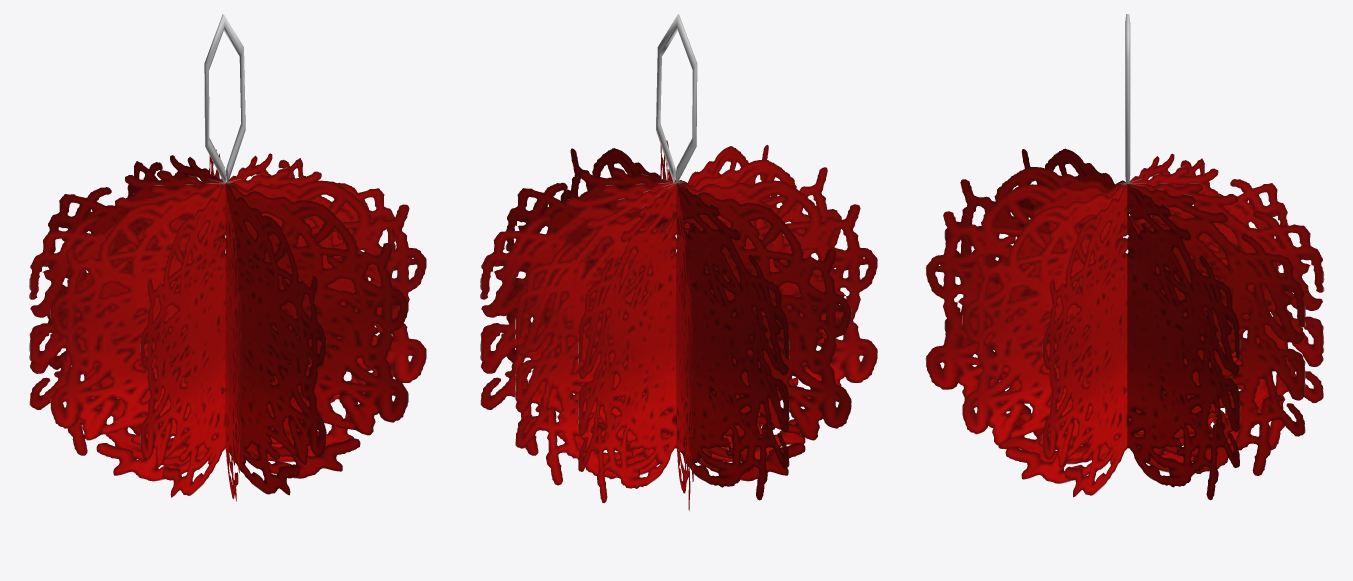
File: Loofah_A.FBX
3 renders of one model, left to right at view 1: azimuth 30°, elevation 25°; view 2: azimuth 150°, elevation 25°; view 3: azimuth 270°, elevation 25°, orthographic.
Visible parts, largest first — view 1: Loofah; view 2: Loofah; view 3: Loofah.
Boxes of the visible parts, x1=… form: Loofah: x1=29, y1=14, x2=426, y2=501; Loofah: x1=480, y1=14, x2=877, y2=510; Loofah: x1=925, y1=14, x2=1324, y2=500.
Size of the model in its own units: 30 by 36.22 by 30.
